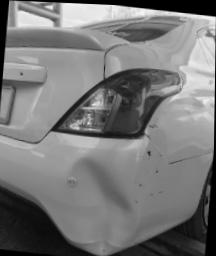Bumper: (26, 132, 176, 256)
